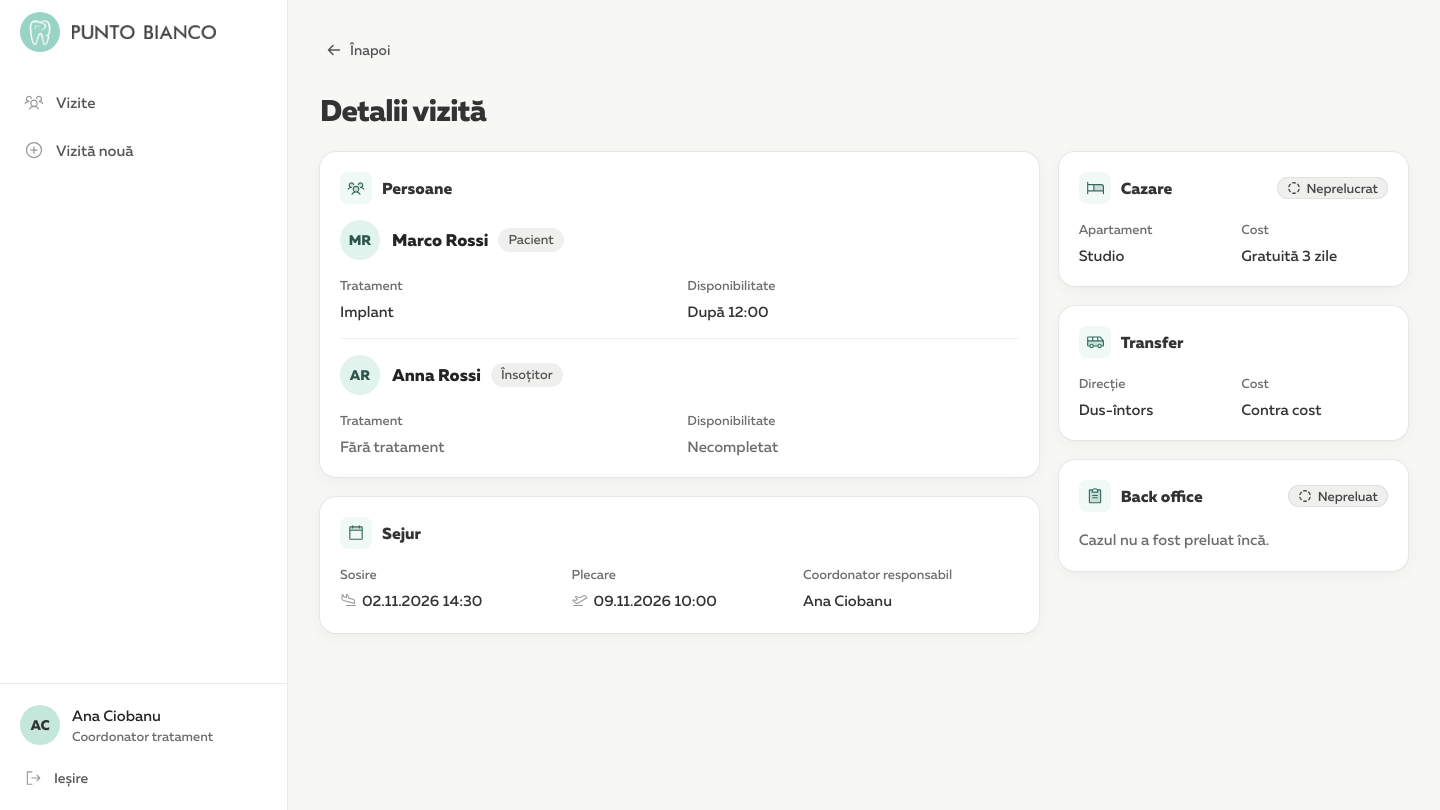
Test: detaliile vizitei: „Înapoi” și „Reîncearcă” › pagina deschisă direct (fără istoric): „Înapoi” duce la prima pagină a rolului
This screenshot has width=1440, height=810.
What coordinates should you click on to do the following:
click the button "Înapoi"
I would click on:
 (358, 50)
Its box is 312,32 -> 404,68.
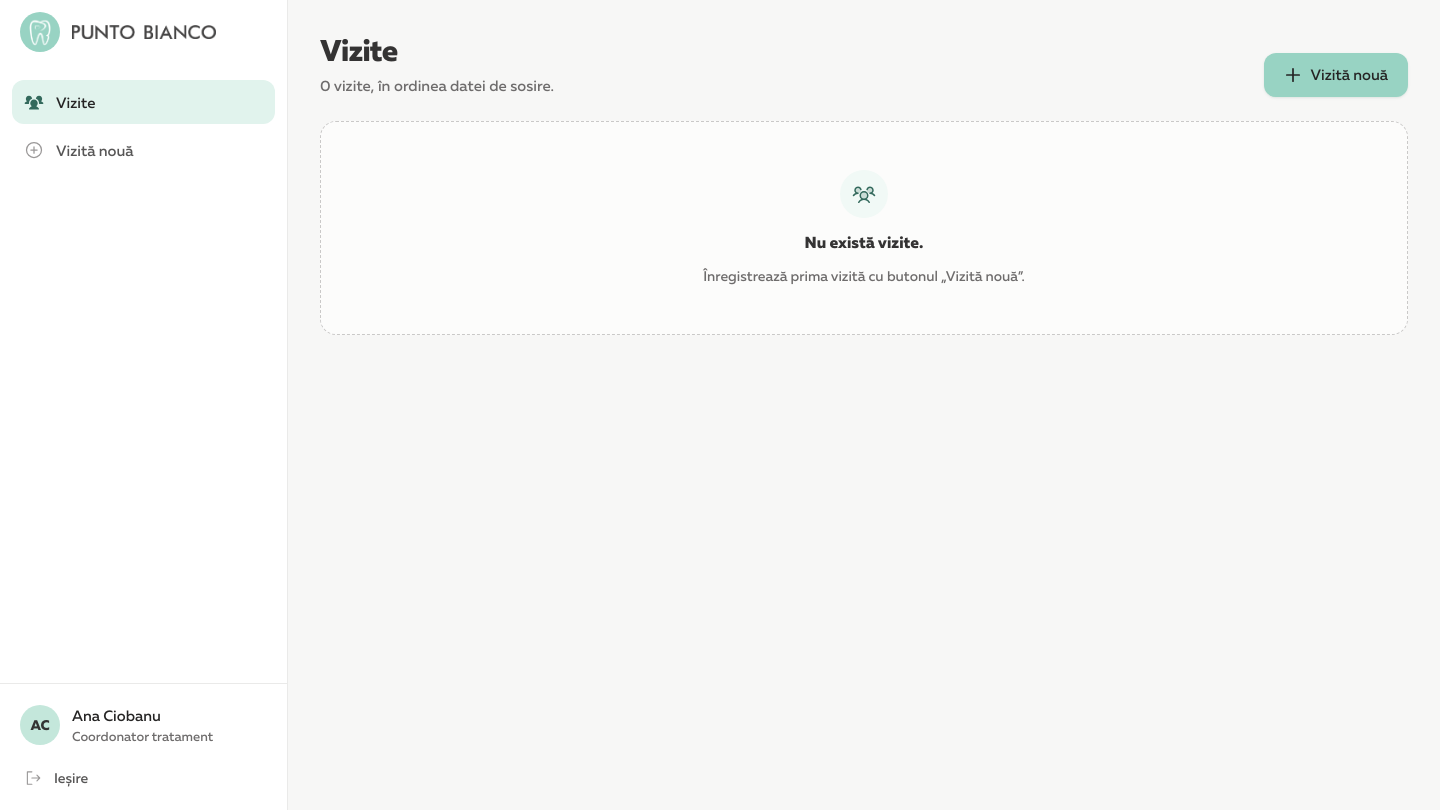
Now the heading "Vizite" is shown, box 320,32 -> 398,68
